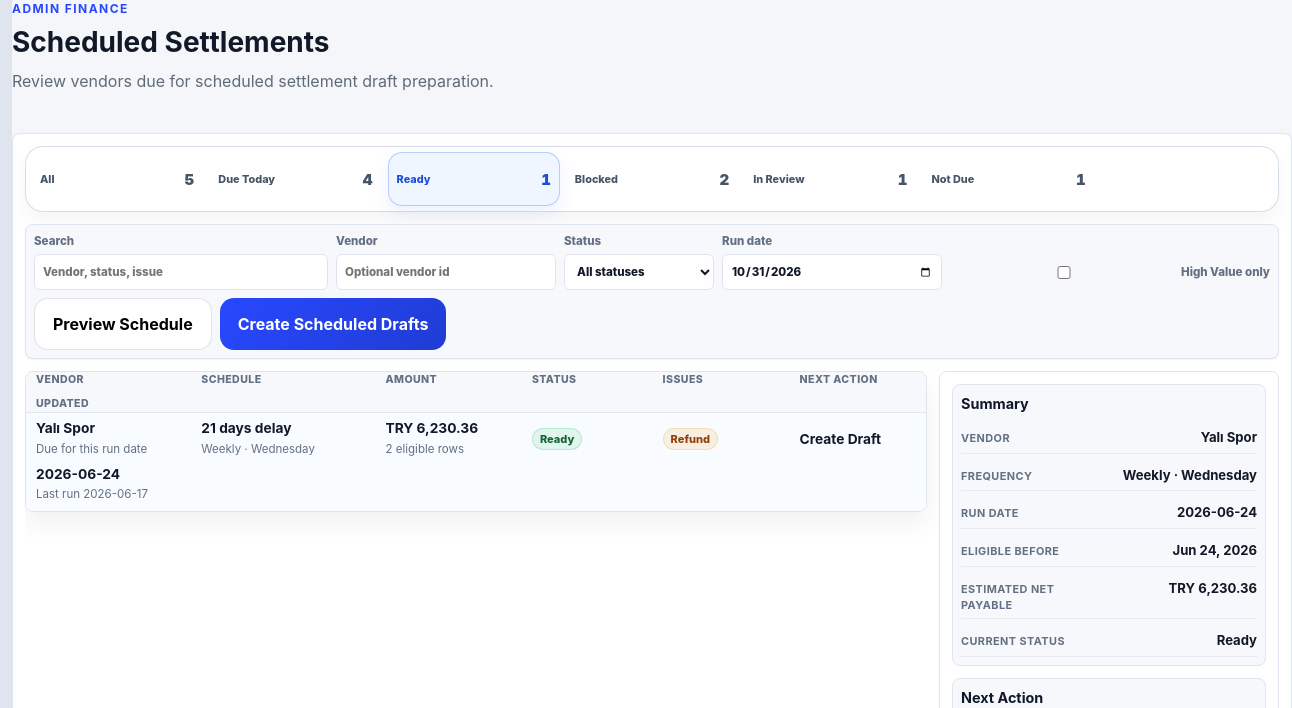
AdminScheduledSettlementsPage › filters the queue with workflow tabs using existing loaded schedule data
The image size is (1292, 708).
Click the button named "Blocked2": (652, 179) x1=566 y1=152 x2=738 y2=206
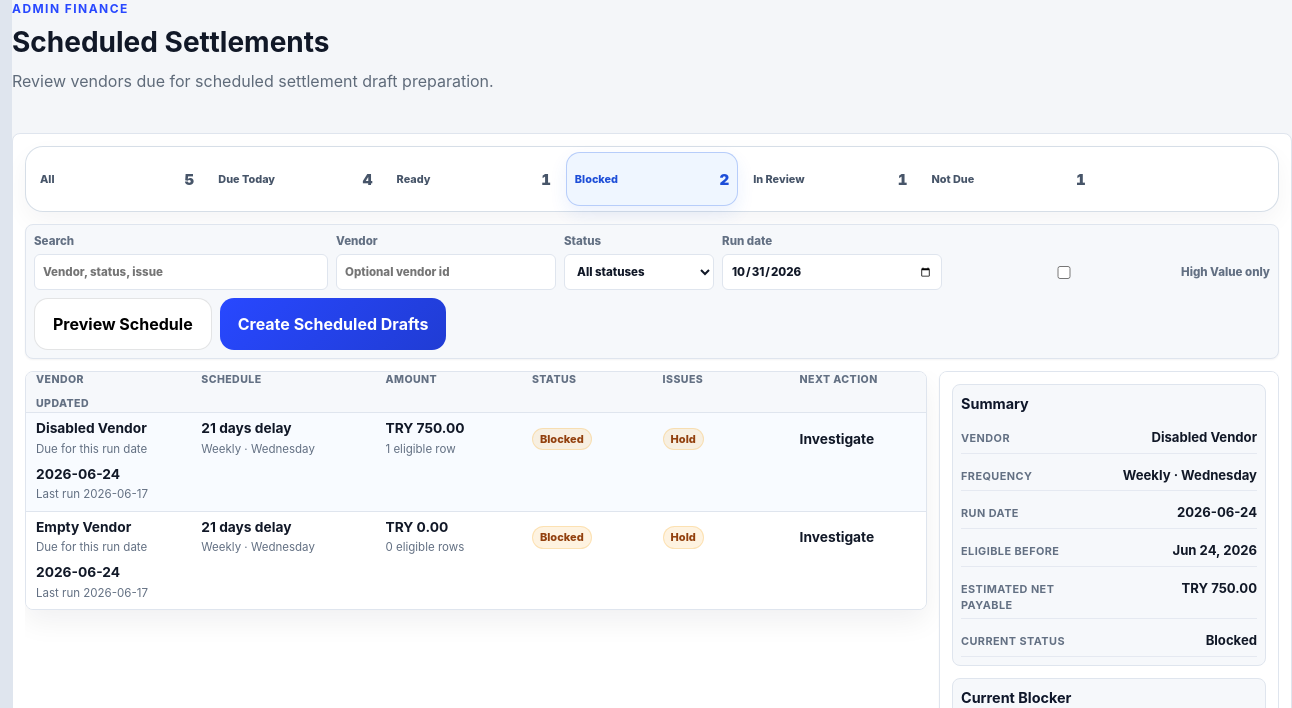
Now the text "Disabled Vendor" below "Updated" is shown, box x1=36 y1=420 x2=147 y2=436
Now the text "Empty Vendor" is shown, box x1=36 y1=518 x2=131 y2=534
Now the button "Yalı Spor" is gone
Click the button named "In Review1": (830, 179) x1=744 y1=152 x2=916 y2=206
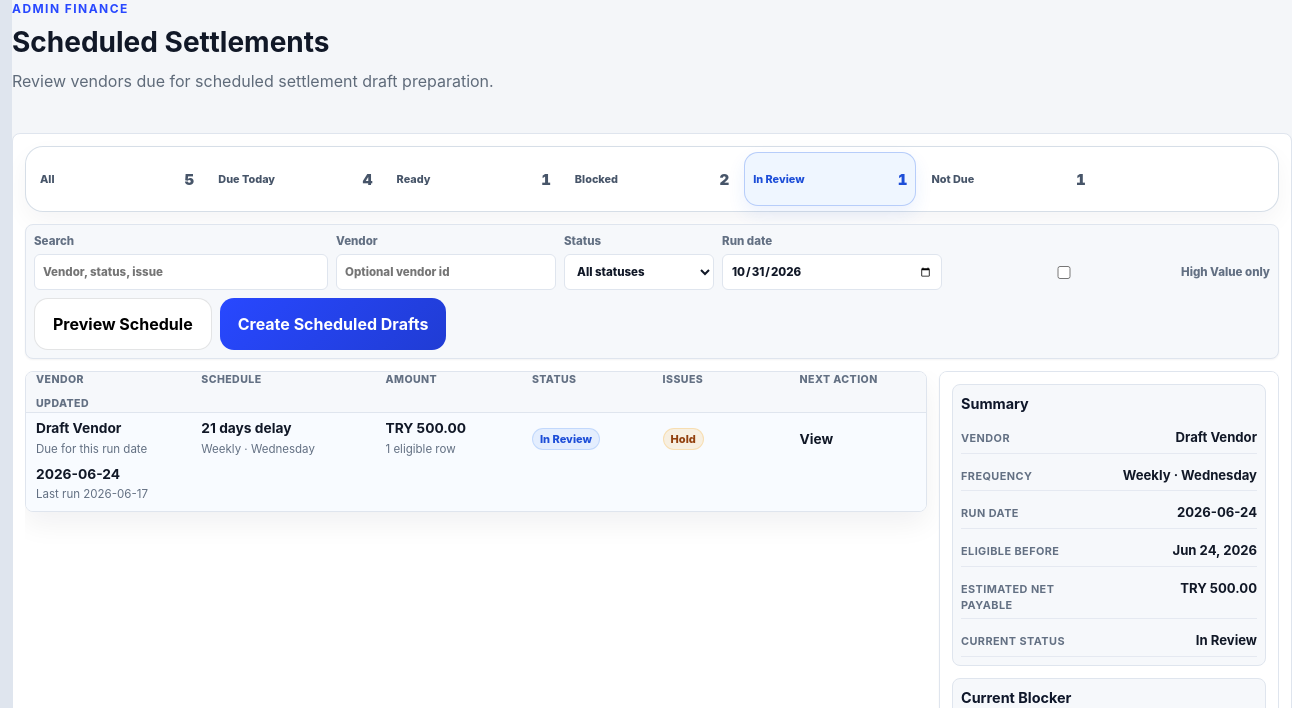
Now the text "Draft Vendor" below "Updated" is shown, box x1=36 y1=420 x2=121 y2=436
Now the text "View" is shown, box x1=800 y1=431 x2=833 y2=447
Click the button named "Not Due1": (1009, 179) x1=922 y1=152 x2=1095 y2=206
(page scrolled)
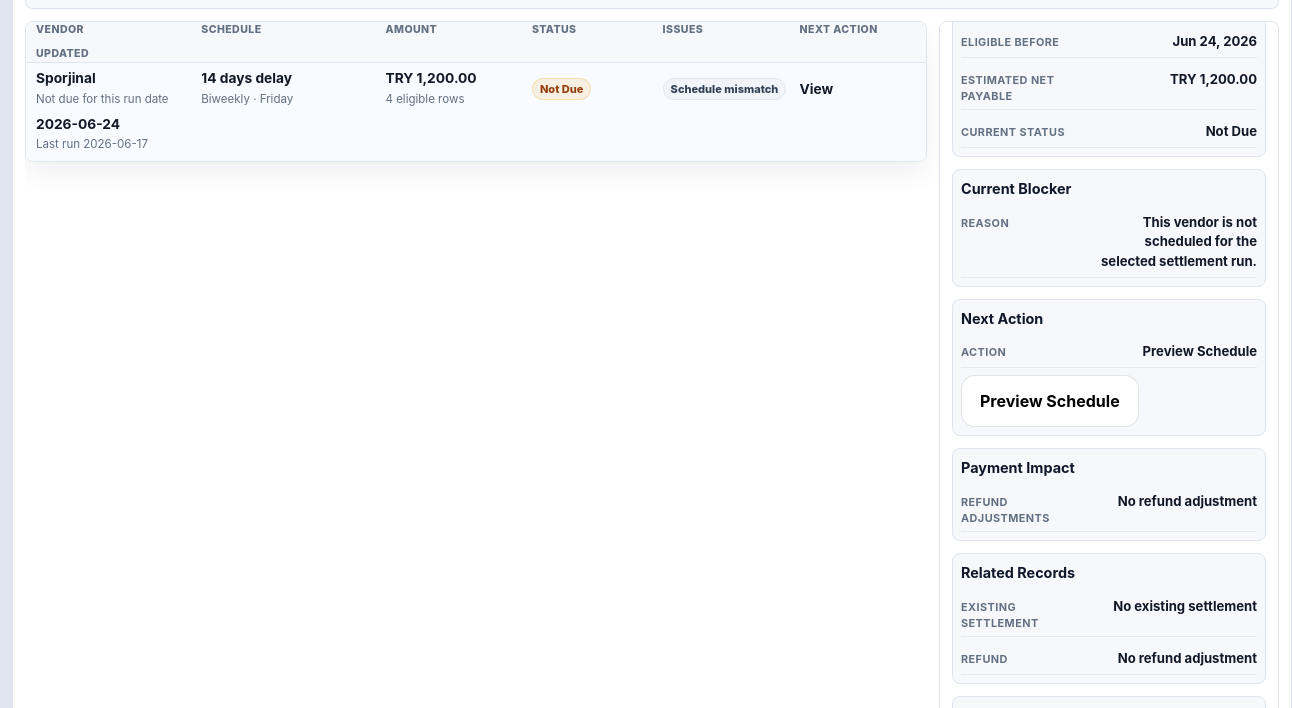
Now the heading "Current Blocker" is shown, box x1=961 y1=180 x2=1072 y2=197
Now the text "Sporjinal" is shown, box x1=36 y1=70 x2=96 y2=86
Now the text "This vendor is not scheduled for the selected settlement run." is shown, box x1=1093 y1=213 x2=1257 y2=272
